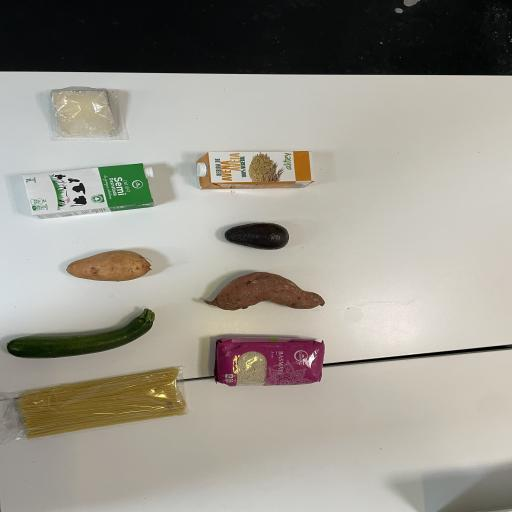avocado: (214, 208, 304, 266)
courgette: (4, 304, 163, 371)
cured_goat_cheese: (24, 65, 148, 147)
milk: (10, 149, 173, 227)
oat_milk: (180, 134, 350, 214)
rice: (193, 318, 341, 406)
spaghetti: (0, 361, 200, 452)
sweet_potato: (186, 265, 351, 334), (52, 233, 162, 300)
